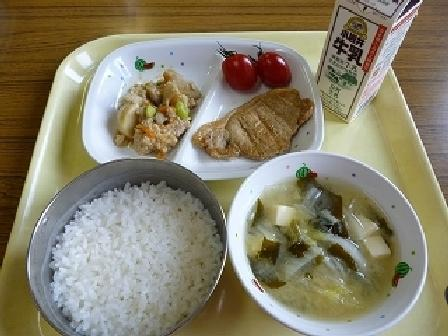Cherry tomatoes: (205, 32, 297, 95)
Milk: (309, 0, 414, 119)
Rice: (43, 158, 223, 332)
Soups: (238, 155, 417, 327)
cooked food based on meat: (193, 83, 314, 159)
vegetable based cooked food: (113, 75, 199, 150)
